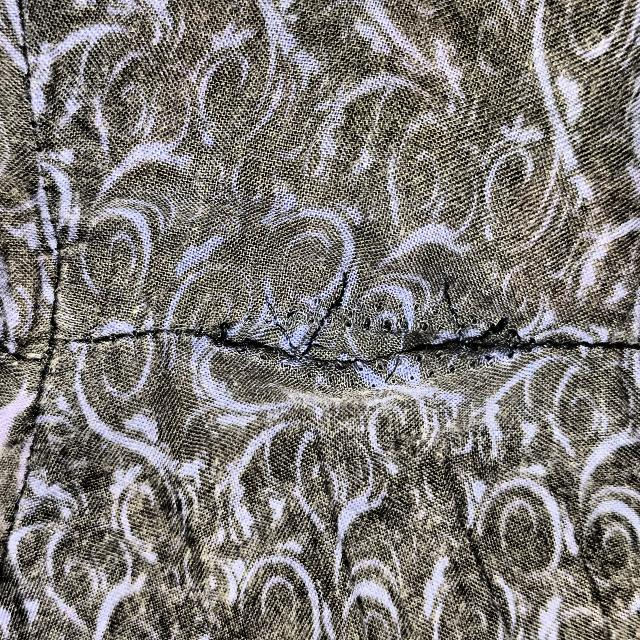seam: (188, 232, 529, 444)
